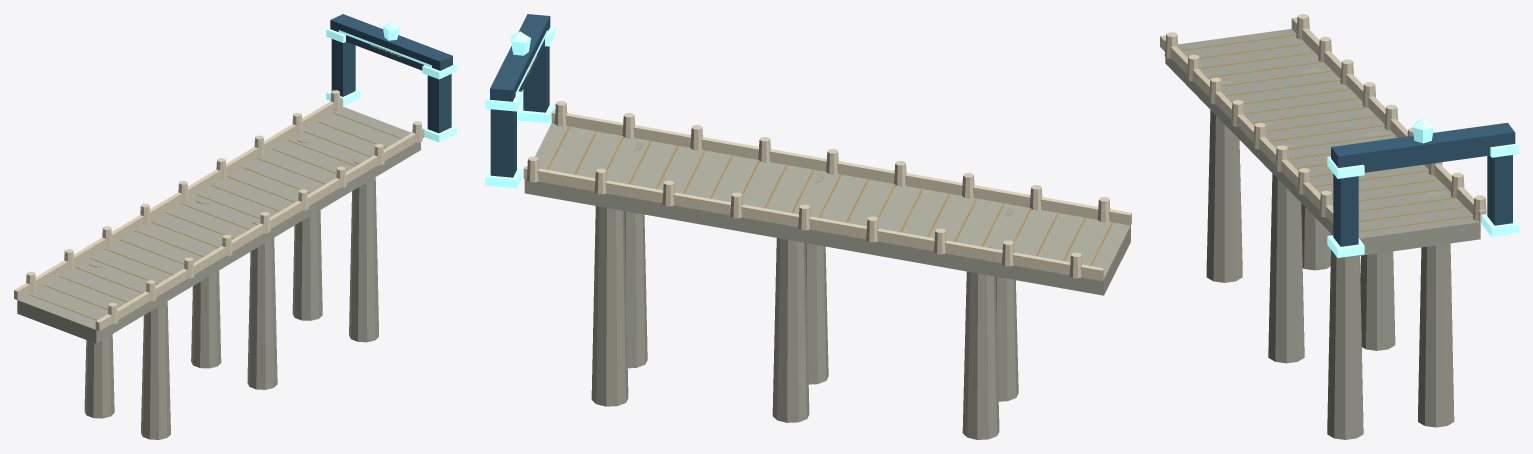
The model's file is Branch_FrostboundGlacier.glb.
The picture shows the model from 3 angles, left to right: view 1: azimuth 30°, elevation 25°; view 2: azimuth 150°, elevation 25°; view 3: azimuth 270°, elevation 25°; orthographic projection. The views are drawn at different scales.
Parts seen in each view (by area): view 1: Branch_FrostboundGlacier_Sanctuary limestone_2_0, Branch_FrostboundGlacier_Warm ivory_2_0, Branch_FrostboundGlacier_Sanctuary limestone_1_0, Branch_FrostboundGlacier_FrostboundGlacier_dark_2_0, Branch_FrostboundGlacier_Warm ivory_1_0, Branch_FrostboundGlacier_Aged gold_2_0, Branch_FrostboundGlacier_FrostboundGlacier_dark_2_1, Branch_FrostboundGlacier_FrostboundGlacier_accent_2_0, Branch_FrostboundGlacier_Aged gold_1_0; view 2: Branch_FrostboundGlacier_Sanctuary limestone_2_0, Branch_FrostboundGlacier_Warm ivory_2_0, Branch_FrostboundGlacier_Sanctuary limestone_1_0, Branch_FrostboundGlacier_FrostboundGlacier_dark_2_0, Branch_FrostboundGlacier_Warm ivory_1_0, Branch_FrostboundGlacier_FrostboundGlacier_dark_2_1, Branch_FrostboundGlacier_Aged gold_2_0, Branch_FrostboundGlacier_FrostboundGlacier_accent_2_0, Branch_FrostboundGlacier_FrostboundGlacier_accent_2_1, Branch_FrostboundGlacier_Aged gold_1_0; view 3: Branch_FrostboundGlacier_Sanctuary limestone_2_0, Branch_FrostboundGlacier_Sanctuary limestone_1_0, Branch_FrostboundGlacier_FrostboundGlacier_dark_2_0, Branch_FrostboundGlacier_Warm ivory_2_0, Branch_FrostboundGlacier_Warm ivory_1_0, Branch_FrostboundGlacier_FrostboundGlacier_dark_2_1, Branch_FrostboundGlacier_Aged gold_1_0, Branch_FrostboundGlacier_Aged gold_2_0, Branch_FrostboundGlacier_FrostboundGlacier_accent_2_0, Branch_FrostboundGlacier_FrostboundGlacier_accent_2_1.
Boxes of the visible parts, x1=… form: Branch_FrostboundGlacier_Sanctuary limestone_2_0: x1=17, y1=106, x2=420, y2=389; Branch_FrostboundGlacier_Warm ivory_2_0: x1=14, y1=43, x2=424, y2=331; Branch_FrostboundGlacier_Sanctuary limestone_1_0: x1=84, y1=261, x2=170, y2=439; Branch_FrostboundGlacier_FrostboundGlacier_dark_2_0: x1=330, y1=14, x2=452, y2=133; Branch_FrostboundGlacier_Warm ivory_1_0: x1=26, y1=203, x2=194, y2=324; Branch_FrostboundGlacier_Aged gold_2_0: x1=165, y1=112, x2=401, y2=238; Branch_FrostboundGlacier_FrostboundGlacier_dark_2_1: x1=331, y1=39, x2=355, y2=96; Branch_FrostboundGlacier_FrostboundGlacier_accent_2_0: x1=338, y1=21, x2=456, y2=142; Branch_FrostboundGlacier_Aged gold_1_0: x1=28, y1=221, x2=219, y2=320; Branch_FrostboundGlacier_Sanctuary limestone_2_0: x1=524, y1=123, x2=1130, y2=422; Branch_FrostboundGlacier_Warm ivory_2_0: x1=523, y1=54, x2=1131, y2=281; Branch_FrostboundGlacier_Sanctuary limestone_1_0: x1=962, y1=207, x2=1018, y2=439; Branch_FrostboundGlacier_FrostboundGlacier_dark_2_0: x1=490, y1=14, x2=550, y2=112; Branch_FrostboundGlacier_Warm ivory_1_0: x1=866, y1=173, x2=1110, y2=278; Branch_FrostboundGlacier_FrostboundGlacier_dark_2_1: x1=490, y1=109, x2=516, y2=177; Branch_FrostboundGlacier_Aged gold_2_0: x1=547, y1=126, x2=868, y2=222; Branch_FrostboundGlacier_FrostboundGlacier_accent_2_0: x1=510, y1=26, x2=555, y2=123; Branch_FrostboundGlacier_FrostboundGlacier_accent_2_1: x1=485, y1=91, x2=522, y2=188; Branch_FrostboundGlacier_Aged gold_1_0: x1=877, y1=184, x2=1112, y2=265; Branch_FrostboundGlacier_Sanctuary limestone_2_0: x1=1165, y1=29, x2=1480, y2=439; Branch_FrostboundGlacier_Sanctuary limestone_1_0: x1=1206, y1=68, x2=1331, y2=282; Branch_FrostboundGlacier_FrostboundGlacier_dark_2_0: x1=1331, y1=122, x2=1515, y2=246; Branch_FrostboundGlacier_Warm ivory_2_0: x1=1160, y1=17, x2=1486, y2=224; Branch_FrostboundGlacier_Warm ivory_1_0: x1=1164, y1=14, x2=1375, y2=107; Branch_FrostboundGlacier_FrostboundGlacier_dark_2_1: x1=1487, y1=155, x2=1512, y2=225; Branch_FrostboundGlacier_Aged gold_1_0: x1=1180, y1=34, x2=1366, y2=123; Branch_FrostboundGlacier_Aged gold_2_0: x1=1266, y1=116, x2=1472, y2=231; Branch_FrostboundGlacier_FrostboundGlacier_accent_2_0: x1=1327, y1=118, x2=1433, y2=257; Branch_FrostboundGlacier_FrostboundGlacier_accent_2_1: x1=1481, y1=141, x2=1518, y2=236.
Size of the model in its own units: 140 by 81 by 75.3.
